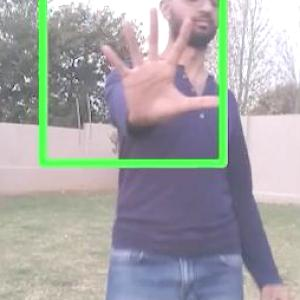follow_hand: (96, 0, 223, 129)
